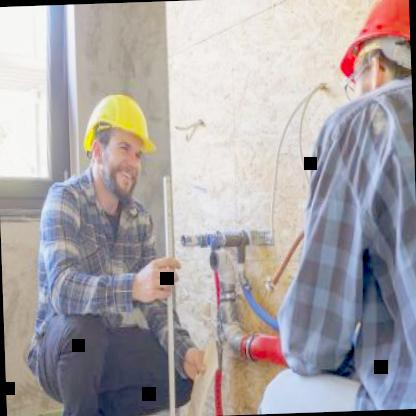helmet: (332, 0, 412, 105), (82, 89, 154, 198)
